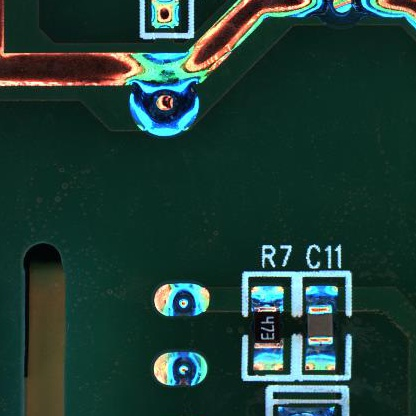spot: (129, 74, 199, 138), (153, 282, 212, 316), (154, 351, 209, 387)
